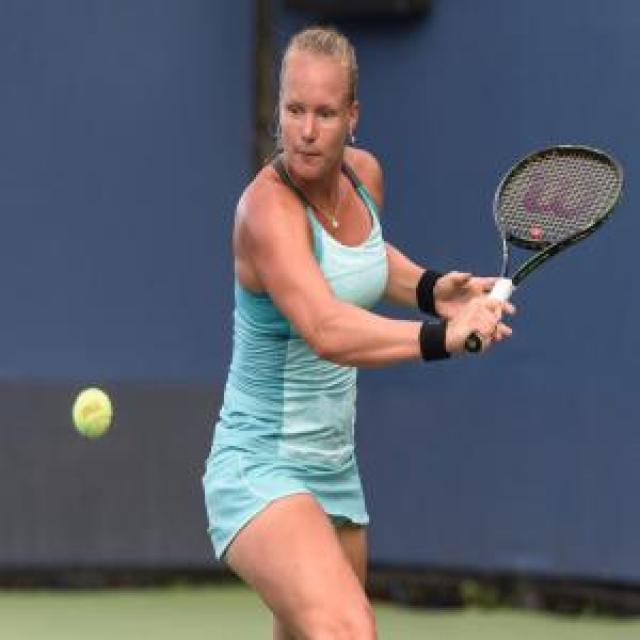ball: (71, 383, 114, 443)
